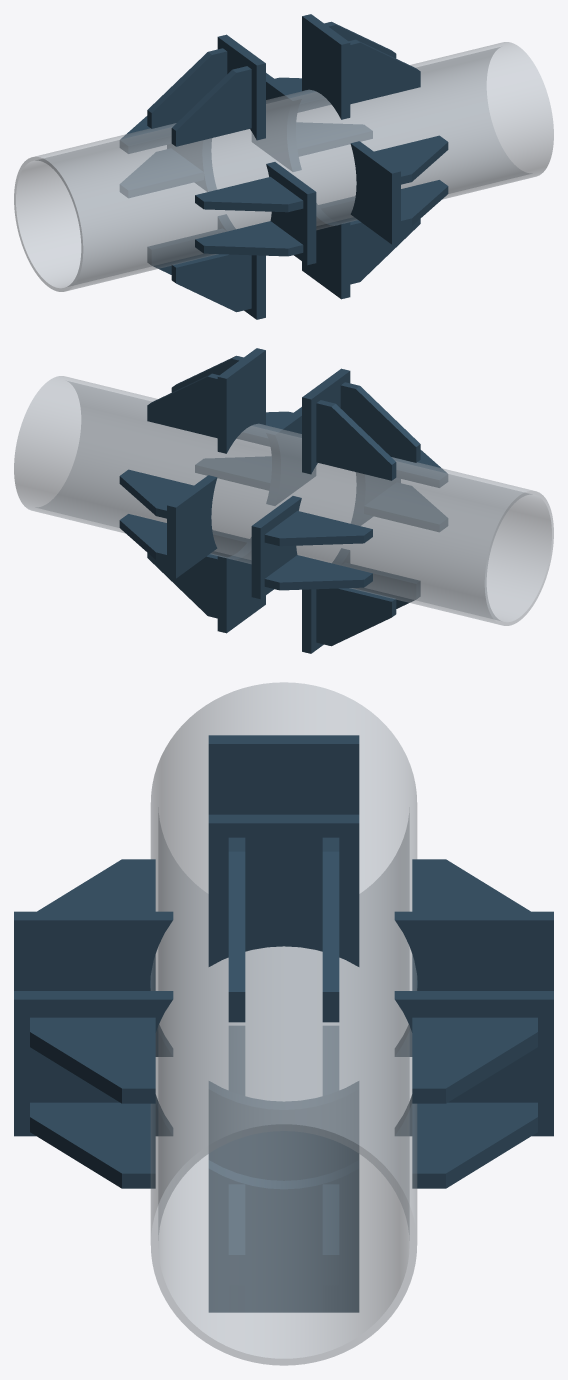
File: TS-661.00.00-01-opora-dn159-ris1.glb
3 renders of one model, top to bottom at view 1: azimuth 30°, elevation 25°; view 2: azimuth 150°, elevation 25°; view 3: azimuth 270°, elevation 25°, orthographic. The views are drawn at different scales.
Parts seen in each view (by area): view 1: truba, upor_6, upor_1, upor_7, upor_17, upor_3, upor_5, upor_13, upor_19, upor_11, upor_12, upor_10 (+13 smaller); view 2: truba, upor_5, upor_1, upor_19, upor_18, upor_2, upor_6, upor_13, upor_7, upor_23, upor_24, upor_22 (+13 smaller); view 3: truba, upor_1, upor_13, upor_4, upor_10, upor_22, upor_16, upor_7, upor_19, upor_8, upor_21, upor_9 (+9 smaller).
Boxes of the visible parts, x1,y1,x2,y2 form: truba: [14, 42, 553, 291]; upor_6: [171, 66, 251, 146]; upor_1: [302, 14, 350, 119]; upor_7: [350, 141, 400, 244]; upor_17: [171, 254, 251, 312]; upor_3: [349, 39, 420, 104]; upor_5: [147, 48, 227, 128]; upor_13: [302, 203, 350, 299]; upor_19: [252, 73, 301, 171]; upor_11: [195, 177, 303, 212]; upor_12: [195, 221, 303, 256]; upor_10: [266, 162, 316, 265]; truba: [14, 376, 553, 625]; upor_5: [316, 400, 396, 480]; upor_1: [217, 348, 265, 453]; upor_19: [167, 475, 217, 578]; upor_18: [316, 588, 396, 646]; upor_2: [147, 373, 218, 438]; upor_6: [340, 382, 420, 462]; upor_13: [217, 537, 265, 633]; upor_7: [266, 407, 315, 505]; upor_23: [264, 555, 372, 590]; upor_24: [264, 511, 372, 546]; upor_22: [251, 496, 301, 599]; truba: [150, 682, 417, 1365]; upor_1: [208, 814, 359, 966]; upor_13: [208, 1160, 359, 1312]; upor_4: [208, 735, 359, 814]; upor_10: [14, 911, 173, 1056]; upor_22: [394, 911, 553, 1056]; upor_16: [208, 1081, 359, 1180]; upor_7: [14, 991, 173, 1136]; upor_19: [394, 991, 553, 1136]; upor_8: [30, 1017, 155, 1103]; upor_21: [412, 1017, 537, 1103]; upor_9: [30, 1102, 155, 1188].
Bounding box in the file's own units: 624 × 322 × 322.
